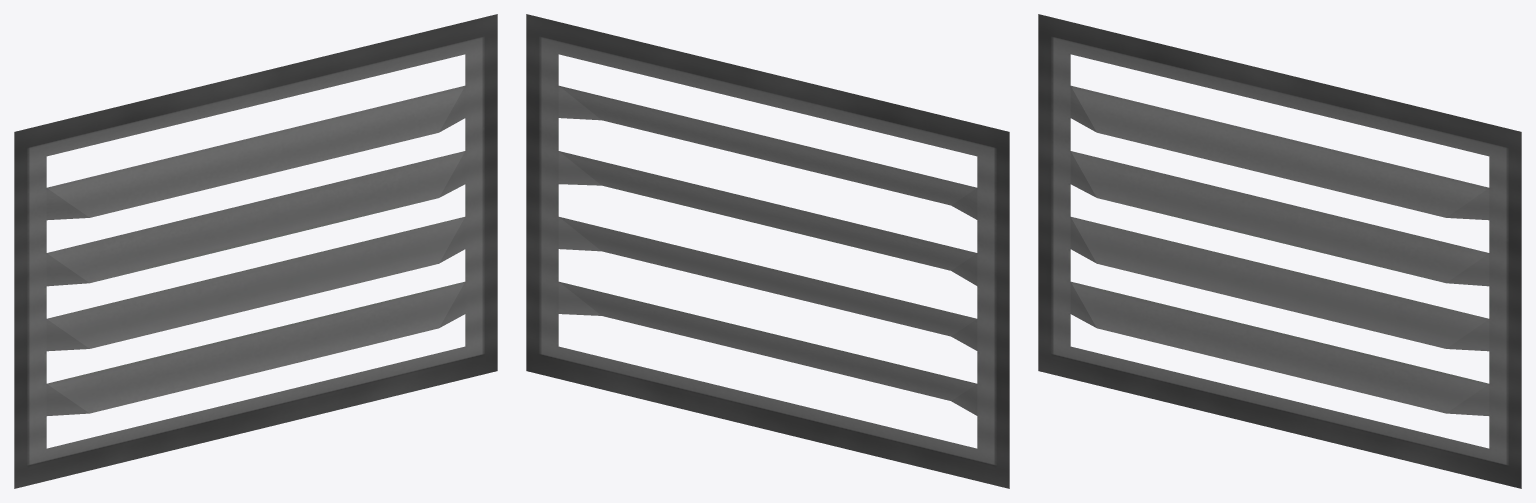
Rendered from vent_panel.glb.
The picture shows the model from 3 angles, left to right: view 1: azimuth 30°, elevation 25°; view 2: azimuth 150°, elevation 25°; view 3: azimuth 330°, elevation 25°; orthographic projection.
Parts seen in each view (by area): view 1: mesh; view 2: mesh; view 3: mesh.
Part boxes in pixels (box(x1,y1,x2,y2)): mesh: box(14, 14, 497, 488); mesh: box(526, 14, 1009, 488); mesh: box(1038, 14, 1521, 488).
Bounding box in the file's own units: 0.85 × 0.6 × 0.0258.
1 material, 1 textured.
